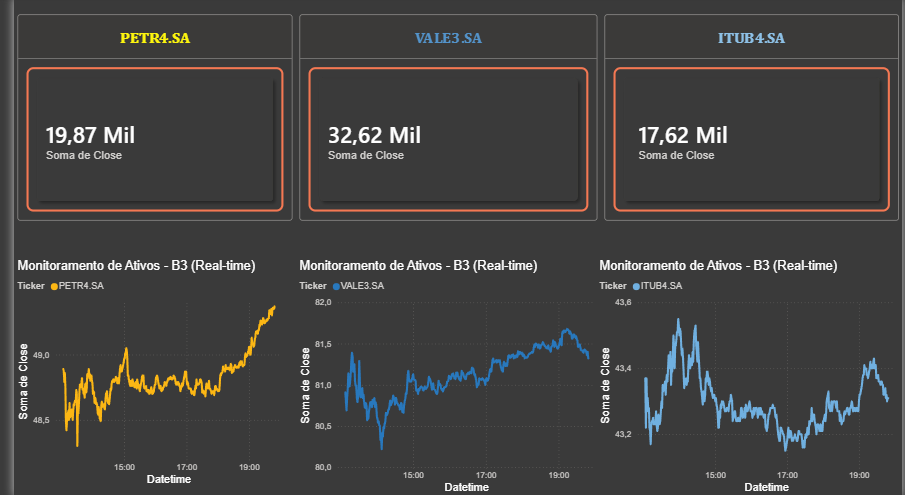

Layout of this report page (visuals, bound fields, positions):
{"tool":"powerbi","page":{"name":"Página 1","canvas":[1280,720],"ordinal":0},"visuals":[{"type":"lineChart","title":"Monitoramento de Ativos - B3 (Real-time)","fields":{"Category":["stock_history.Datetime"],"Series":["stock_history.Ticker"],"Y":["Sum(stock_history.Close)"]},"box":[0,375.9,396.2,331.9],"z":0},{"type":"cardVisual","fields":{"Rows":["stock_history.Ticker"],"Data":["Sum(stock_history.Close)"]},"box":[0,0,406.3,347.1],"z":1000},{"type":"cardVisual","fields":{"Rows":["stock_history.Ticker"],"Data":["Sum(stock_history.Close)"]},"box":[406.1,0,439.2,347],"z":2000},{"type":"cardVisual","fields":{"Data":["Sum(stock_history.Close)"],"Rows":["stock_history.Ticker"]},"box":[845.3,0,434.9,347],"z":3000},{"type":"lineChart","title":"Monitoramento de Ativos - B3 (Real-time)","fields":{"Category":["stock_history.Datetime"],"Series":["stock_history.Ticker"],"Y":["Sum(stock_history.Close)"]},"box":[406.3,375.9,441.9,343.7],"z":4000},{"type":"lineChart","title":"Monitoramento de Ativos - B3 (Real-time)","fields":{"Category":["stock_history.Datetime"],"Series":["stock_history.Ticker"],"Y":["Sum(stock_history.Close)"]},"box":[838.1,375.9,441.9,343.7],"z":5000}]}

Visuals, with their boxes in screenshot pixels (x1, y1, x2, y2), scaled from the page's 1280x720 canvas onto the 905x495 screenshot:
"Monitoramento de Ativos - B3 (Real-time)" lineChart: box(0, 258, 280, 487)
cardVisual - stock_history.Ticker x Sum(stock_history.Close): box(0, 0, 287, 239)
cardVisual - stock_history.Ticker x Sum(stock_history.Close): box(287, 0, 598, 239)
cardVisual - Sum(stock_history.Close) x stock_history.Ticker: box(598, 0, 904, 239)
"Monitoramento de Ativos - B3 (Real-time)" lineChart: box(287, 258, 600, 494)
"Monitoramento de Ativos - B3 (Real-time)" lineChart: box(593, 258, 904, 494)
